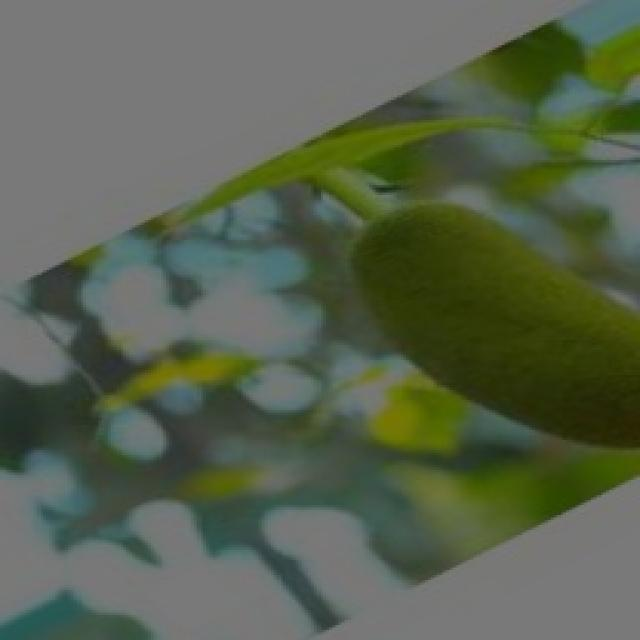Fruit: (311, 165, 640, 483)
